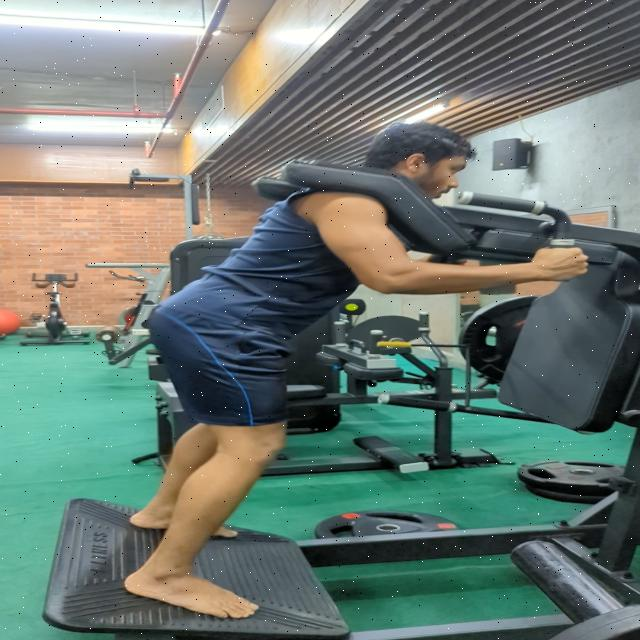Normal_SquatsWithBarbell: (95, 117, 640, 640)
